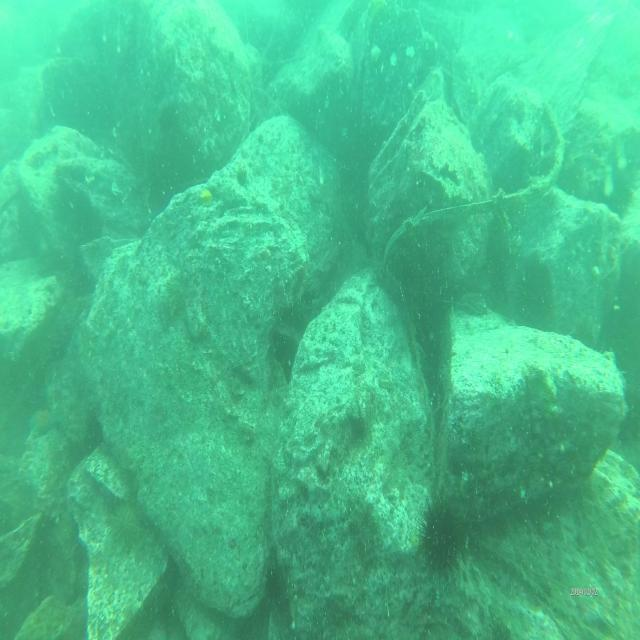echinus: (420, 490, 470, 580), (107, 500, 147, 562)
starfish: (26, 407, 60, 439)
